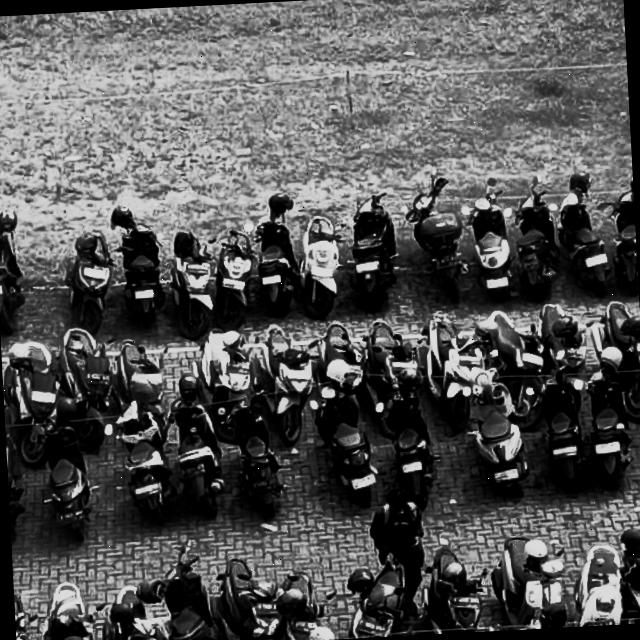motor: (160, 370, 238, 530), (460, 362, 535, 500), (483, 525, 578, 632), (400, 177, 475, 311), (312, 380, 381, 517), (112, 392, 178, 534), (34, 409, 100, 548), (112, 191, 172, 343), (581, 345, 640, 499), (136, 535, 219, 640), (382, 374, 442, 513), (538, 360, 594, 498), (199, 545, 280, 640), (418, 310, 480, 434), (252, 320, 314, 440), (52, 216, 115, 334), (346, 186, 404, 314), (510, 167, 564, 303), (234, 394, 288, 530), (556, 165, 610, 298), (564, 525, 634, 627), (413, 540, 488, 635), (1, 332, 62, 448), (249, 192, 305, 318), (466, 172, 518, 306), (328, 556, 407, 640), (589, 297, 640, 425), (53, 324, 114, 431), (166, 222, 218, 346), (296, 204, 348, 324), (598, 163, 640, 300), (529, 294, 591, 378), (212, 226, 258, 334), (195, 324, 262, 398), (33, 575, 106, 640), (92, 569, 157, 640), (484, 308, 547, 378), (0, 199, 31, 337), (362, 311, 418, 375), (310, 311, 366, 374), (4, 404, 28, 548), (106, 334, 170, 382)
